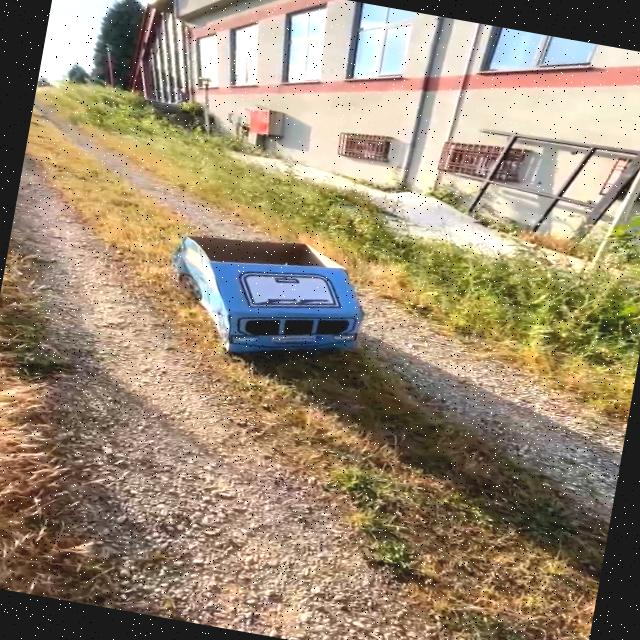blue_car: (115, 188, 424, 396)
